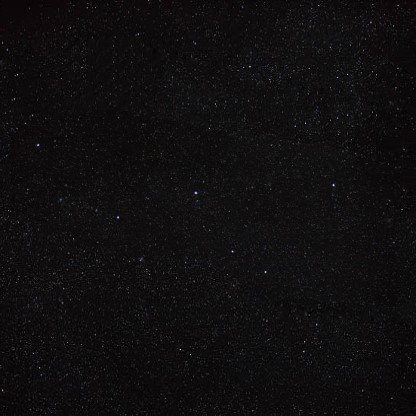Cassiopeia: (310, 171, 350, 197), (253, 258, 278, 284), (106, 204, 127, 230), (186, 181, 206, 205), (28, 133, 48, 155)
